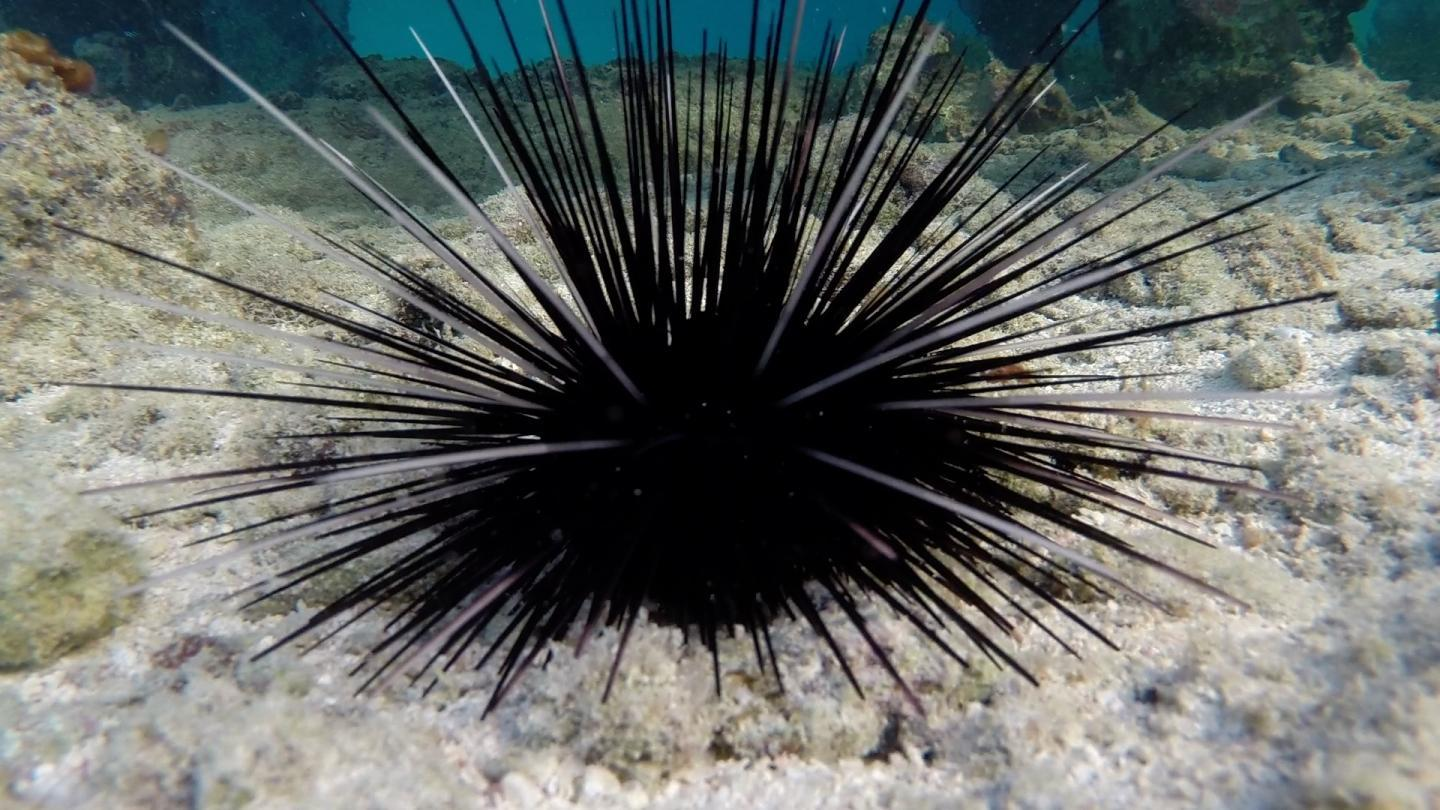urchin: (22, 0, 1356, 723)
